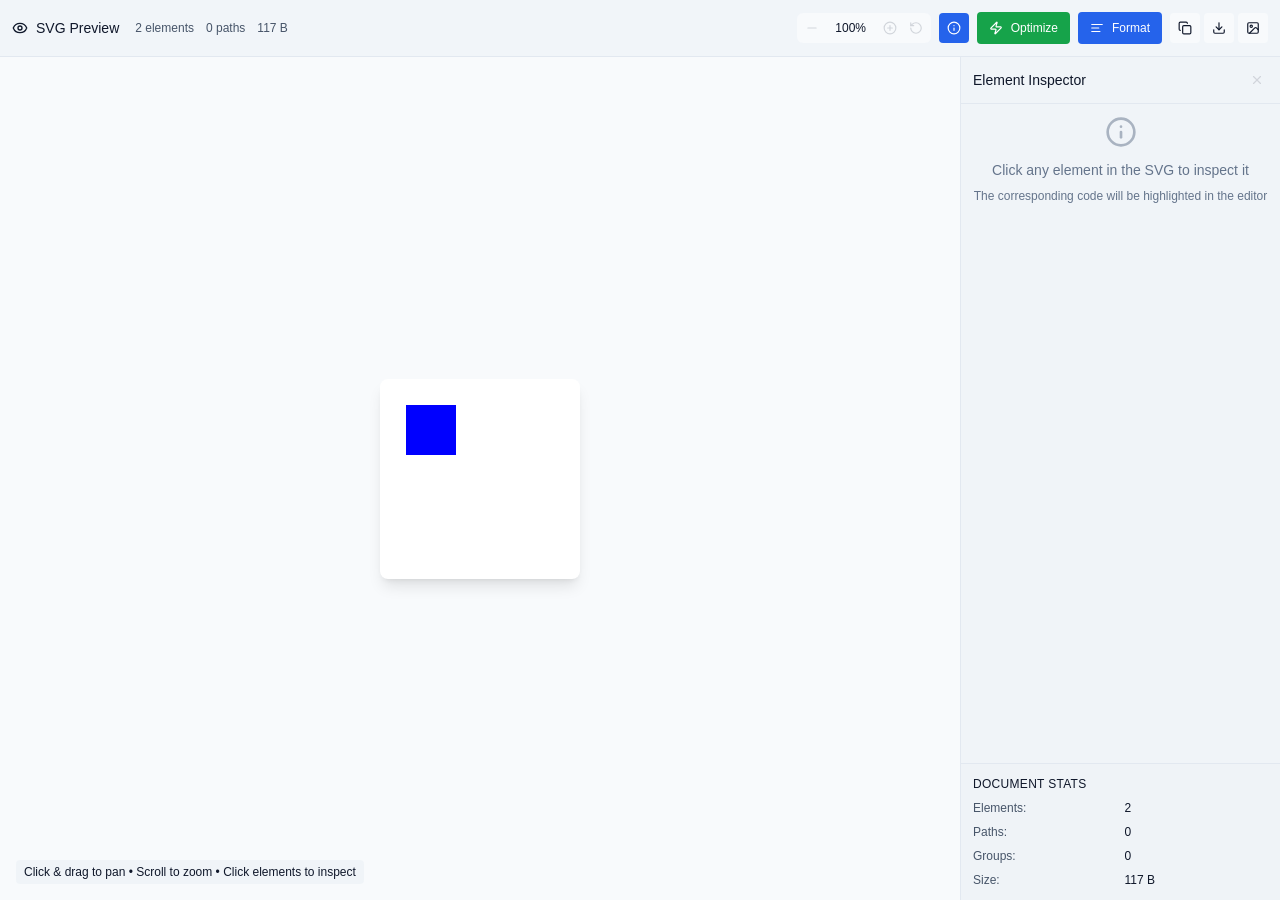
Test: SvgViewer › optimization › should show optimization results
This screenshot has width=1280, height=900.
Click the button titled "Optimize SVG": [1023, 28] box 977,12 -> 1070,44
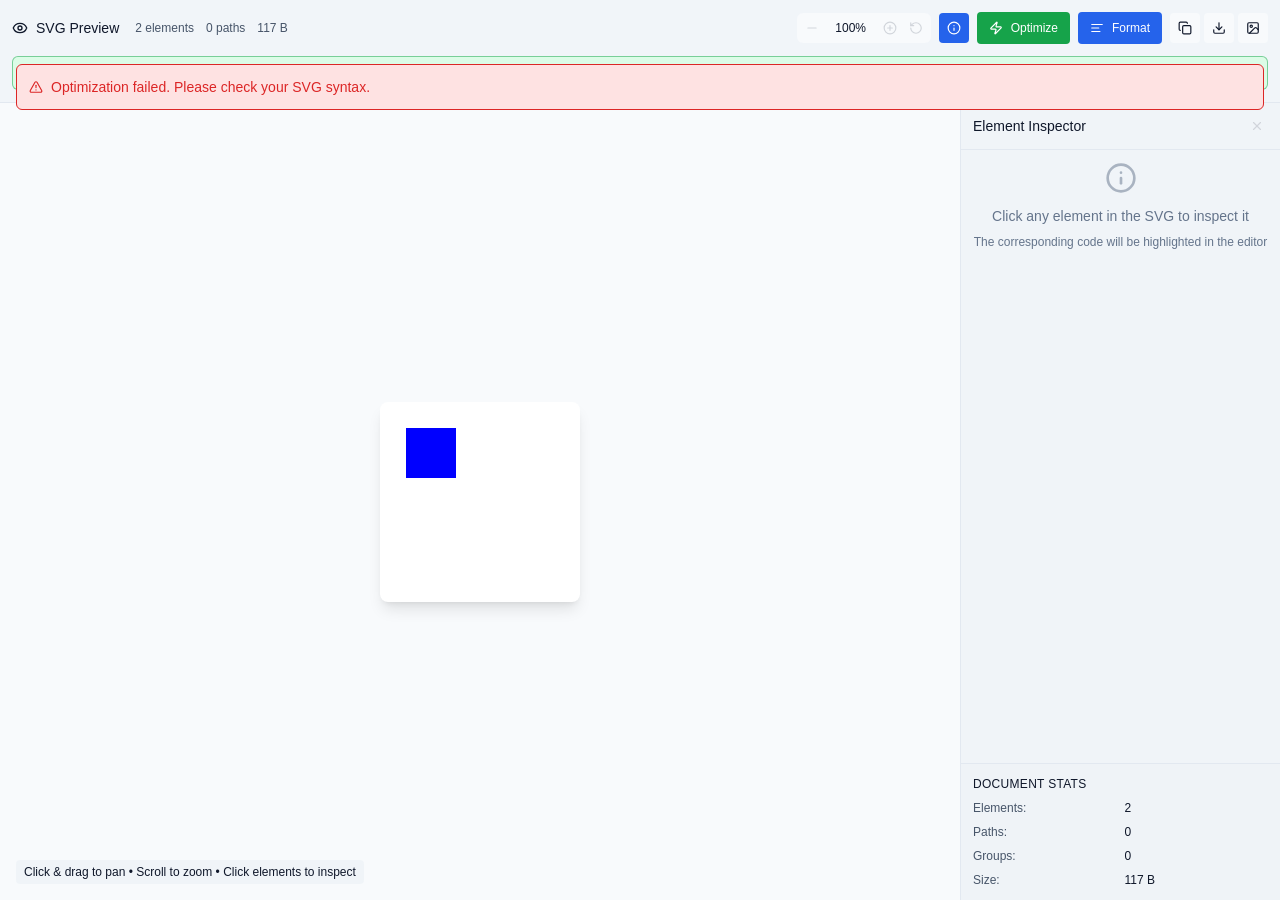
Check: the text "Optimized: 117 B → 19 B(83.8% smaller)" is shown, box 43,65 -> 270,81
